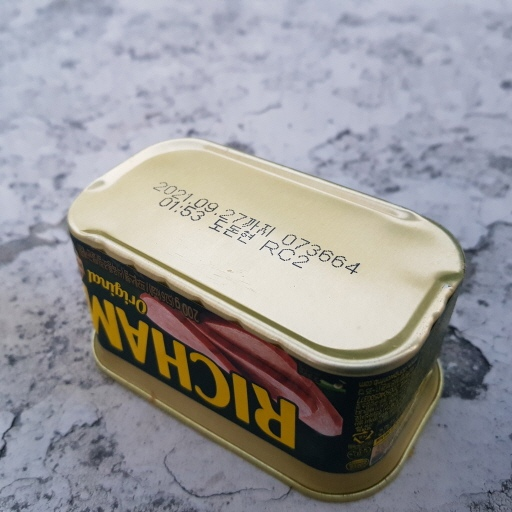Metal_2: (65, 133, 466, 502)
